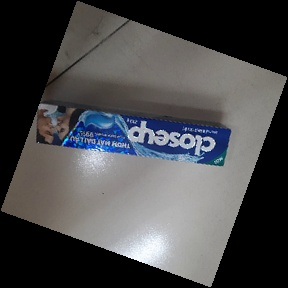CloseUp Tuyet: (37, 101, 232, 167)
